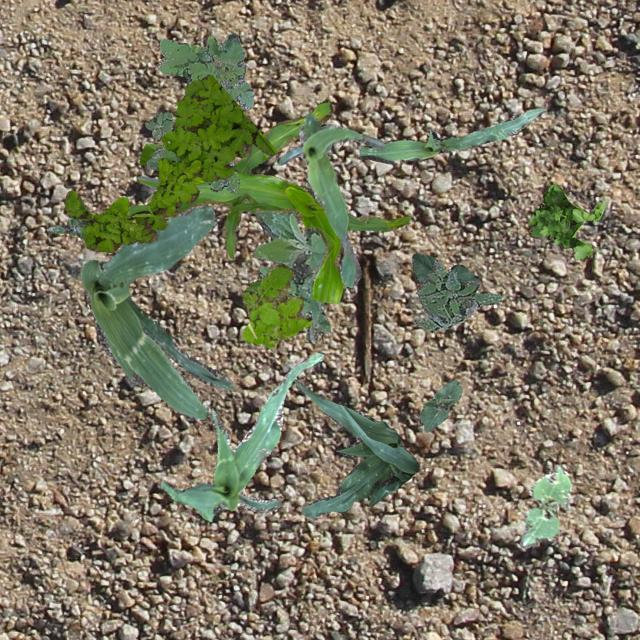crop: (128, 99, 410, 302), (78, 204, 232, 420), (160, 352, 322, 520), (276, 112, 384, 286), (293, 378, 419, 516), (358, 106, 544, 162), (518, 464, 570, 548), (418, 378, 461, 432), (410, 252, 478, 284)
weed: (64, 74, 276, 252), (252, 180, 328, 342), (144, 110, 238, 192), (156, 32, 252, 108), (412, 258, 501, 332), (240, 262, 312, 346), (528, 180, 604, 258), (46, 216, 88, 238)
